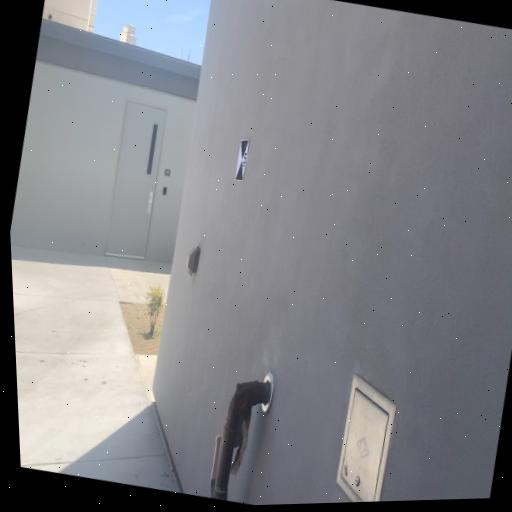target5: (232, 139, 252, 181)
